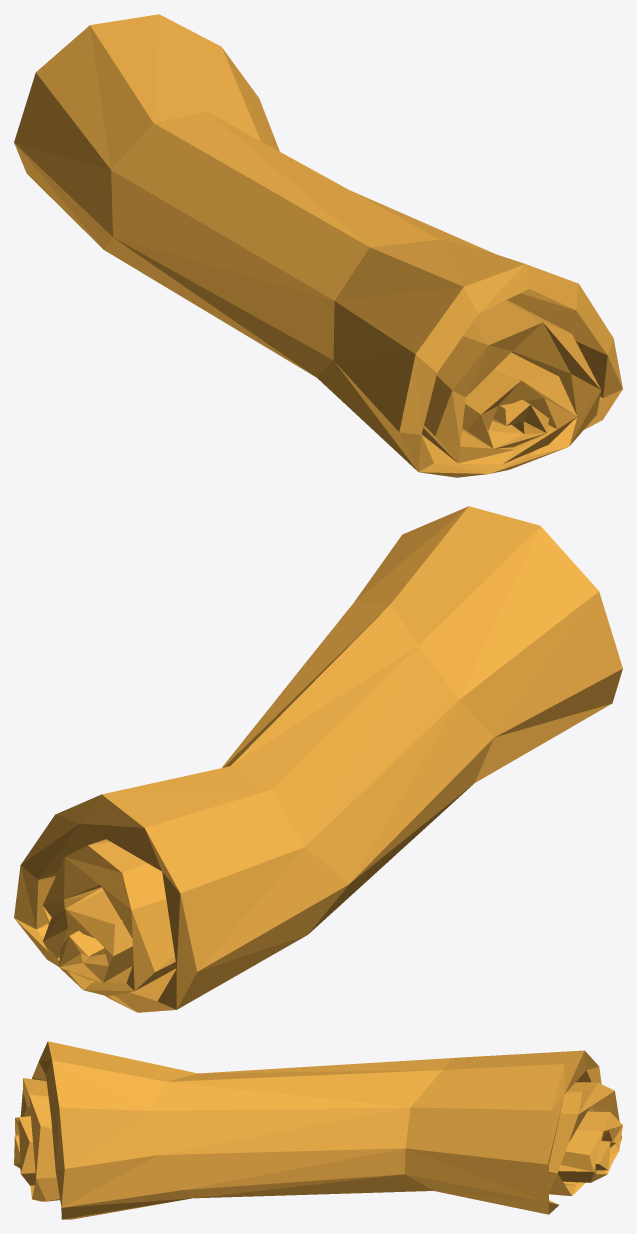
File: SFM_FS_Fabric_016.fbx
The picture shows the model from 3 angles, top to bottom: view 1: azimuth 30°, elevation 25°; view 2: azimuth 150°, elevation 25°; view 3: azimuth 270°, elevation 25°; orthographic projection. The views are drawn at different scales.
Visible parts, largest first — view 1: SFM_FS_Fabric_016; view 2: SFM_FS_Fabric_016; view 3: SFM_FS_Fabric_016.
Part boxes in pixels (box(x1,y1,x2,y2)): SFM_FS_Fabric_016: box(14, 14, 622, 477); SFM_FS_Fabric_016: box(14, 506, 622, 1012); SFM_FS_Fabric_016: box(14, 1041, 622, 1219).
Bounding box in the file's own units: 36.16 × 28.06 × 105.
